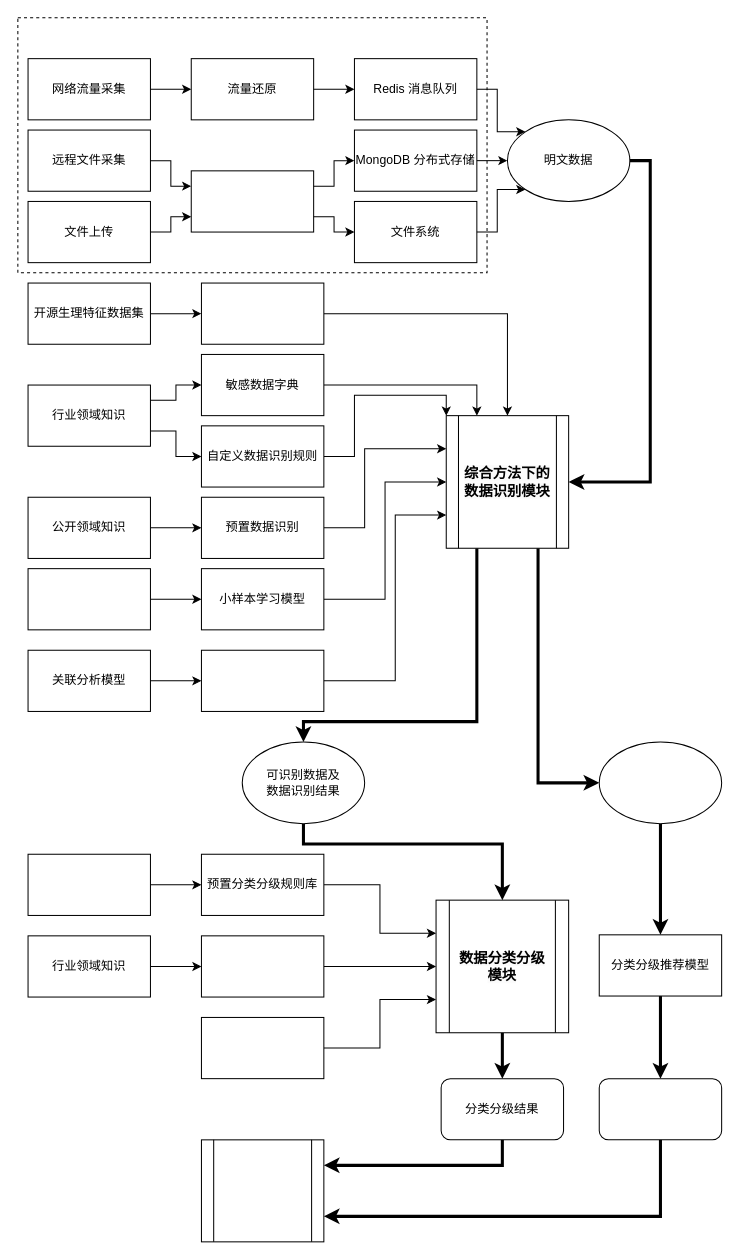
Some shapes in this 740 by 1260 pixel diagram are drawn without their labels. The centre of each missing label's shape, as x and y in pixels:
分类分级建议: (x=660, y=1109)
动态定级模型: (x=262, y=1047)
基于关联分析的 数据识别: (x=262, y=680)
数据存储模块: (x=262, y=1190)
数据采集和解析模块: (x=99, y=32)
文件解析: (x=252, y=201)
未识别数据: (x=660, y=782)
法规信息抽取: (x=88, y=884)
生理特征识别模型: (x=262, y=313)
用户数据样本: (x=88, y=599)
自定义分类分级规则库: (x=262, y=966)
